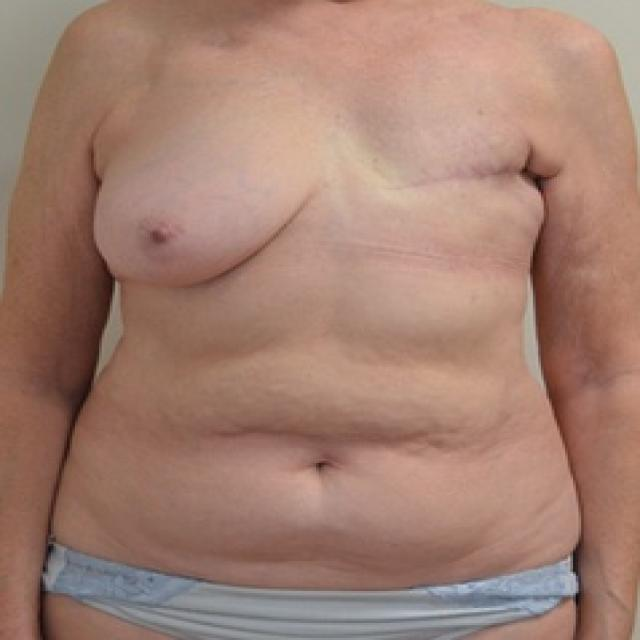Seno herido: (332, 90, 568, 302)
Seno ileso: (79, 91, 327, 302)
